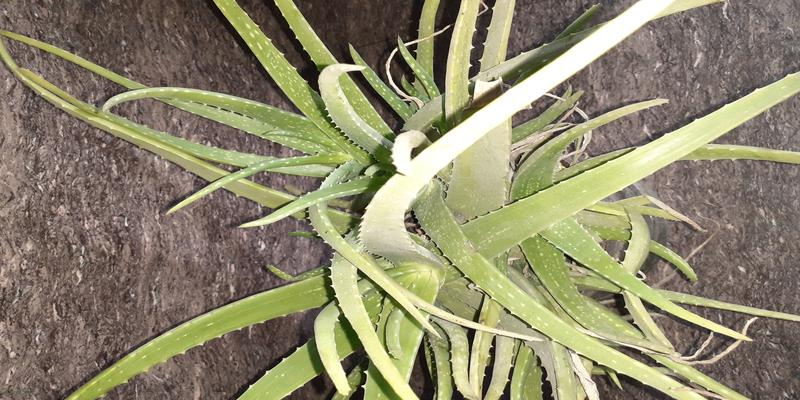Aloevera: (198, 83, 604, 347)
